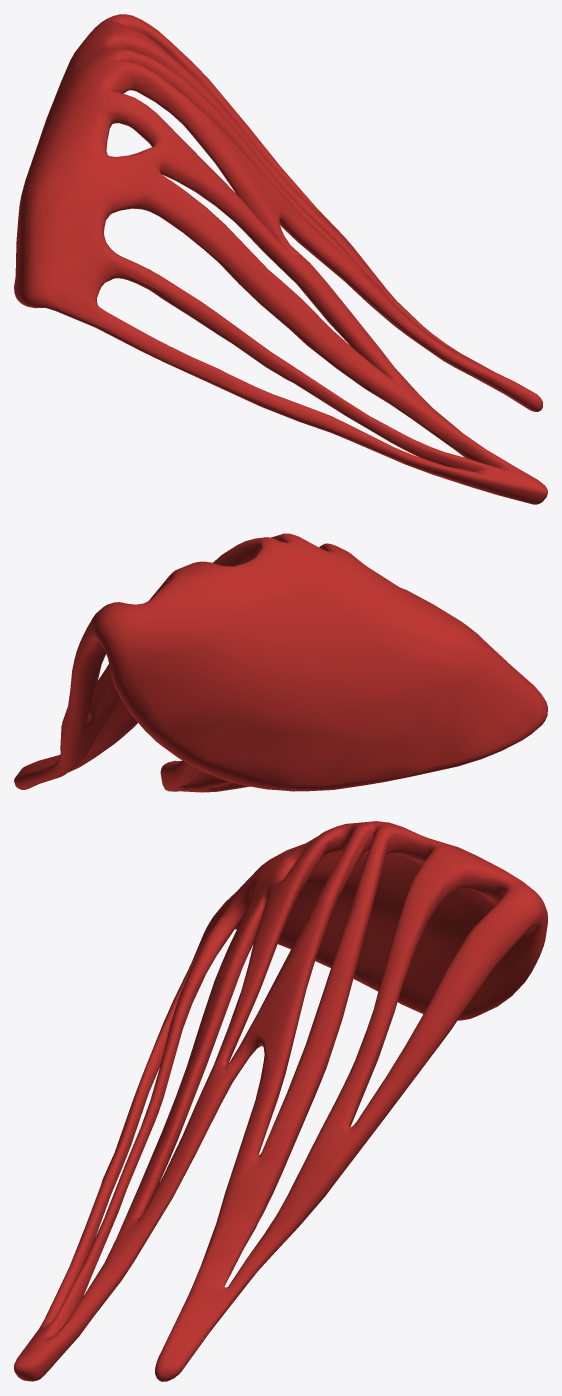
Rendered from circulatorio-inferior-leaflet-of-right-atrioventricular-valve.glb.
3 renders of one model, top to bottom at view 1: azimuth 30°, elevation 25°; view 2: azimuth 150°, elevation 25°; view 3: azimuth 270°, elevation 25°, orthographic. The views are drawn at different scales.
Parts seen in each view (by area): view 1: Inferior leaflet of right atrioventricular valve; view 2: Inferior leaflet of right atrioventricular valve; view 3: Inferior leaflet of right atrioventricular valve.
Boxes of the visible parts, bbox=[...] form: Inferior leaflet of right atrioventricular valve: bbox=[14, 14, 547, 504]; Inferior leaflet of right atrioventricular valve: bbox=[14, 533, 547, 792]; Inferior leaflet of right atrioventricular valve: bbox=[14, 821, 547, 1381].
Bounding box in the file's own units: 0.0366 × 0.0285 × 0.0326.
